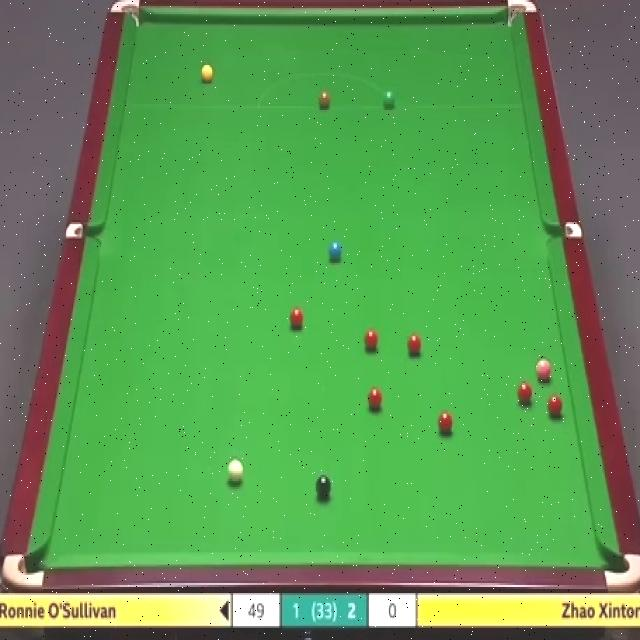blue-ball: (330, 239, 342, 263)
brown-ball: (318, 90, 332, 109)
green-ball: (382, 88, 397, 111)
pink-ball: (535, 358, 552, 380)
red-ball: (368, 386, 385, 413), (546, 394, 564, 417), (288, 308, 306, 330), (517, 380, 532, 406), (334, 416, 349, 441), (306, 399, 320, 423), (320, 412, 336, 433), (408, 333, 422, 356), (310, 383, 324, 405), (317, 432, 331, 454)
white-ball: (270, 490, 290, 516)
yellow-ball: (200, 62, 214, 85)
